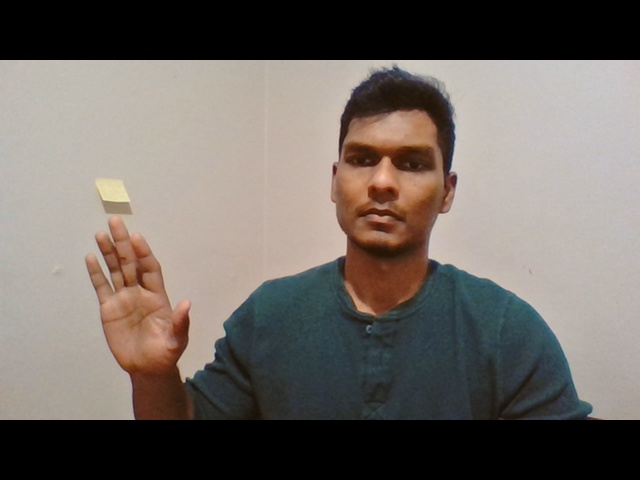Hello: (80, 212, 194, 391)
